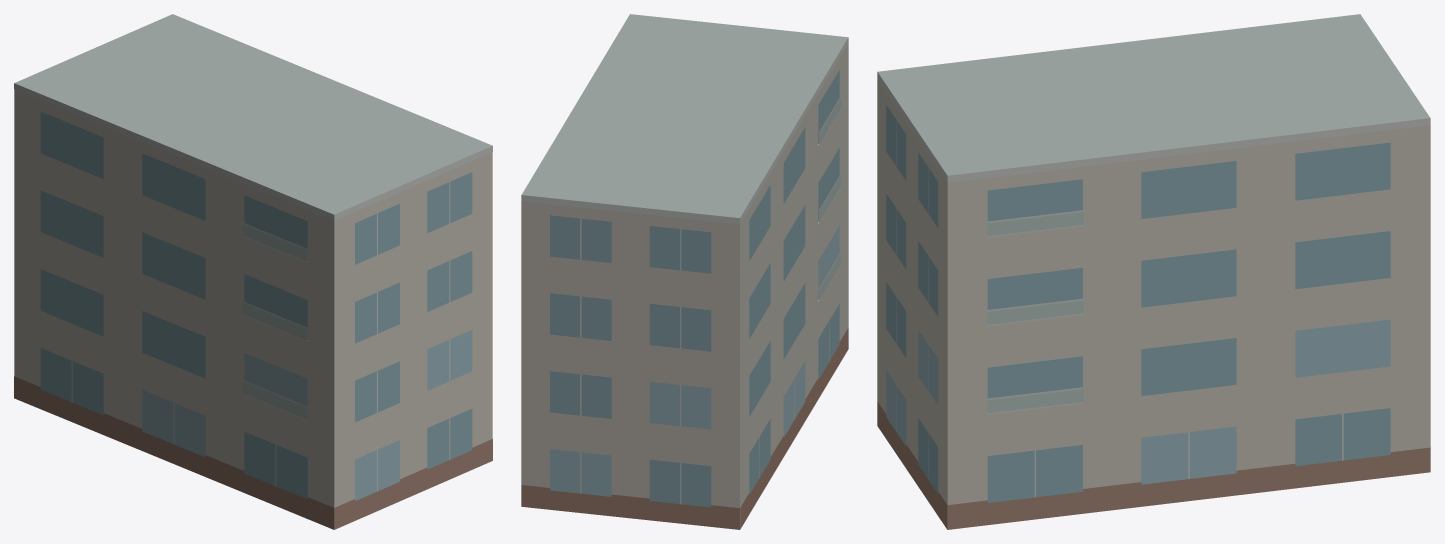
The model's file is survey-upis-32702111.glb.
3 renders of one model, left to right at view 1: azimuth 30°, elevation 25°; view 2: azimuth 150°, elevation 25°; view 3: azimuth 270°, elevation 25°, orthographic. The views are drawn at different scales.
Visible parts, largest first — view 1: survey-upis-32702111.tmp; view 2: survey-upis-32702111.tmp; view 3: survey-upis-32702111.tmp.
Part boxes in pixels (left/top/right/bottom): survey-upis-32702111.tmp: left=14, top=14, right=492, bottom=529; survey-upis-32702111.tmp: left=521, top=14, right=848, bottom=529; survey-upis-32702111.tmp: left=877, top=14, right=1430, bottom=529.
Bounding box in the file's own units: 11.96 × 12.2 × 17.28.
